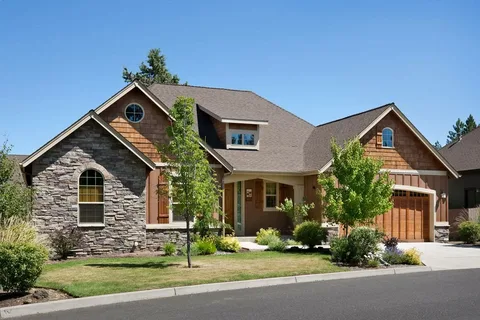private_hause: (78, 77, 360, 248)
